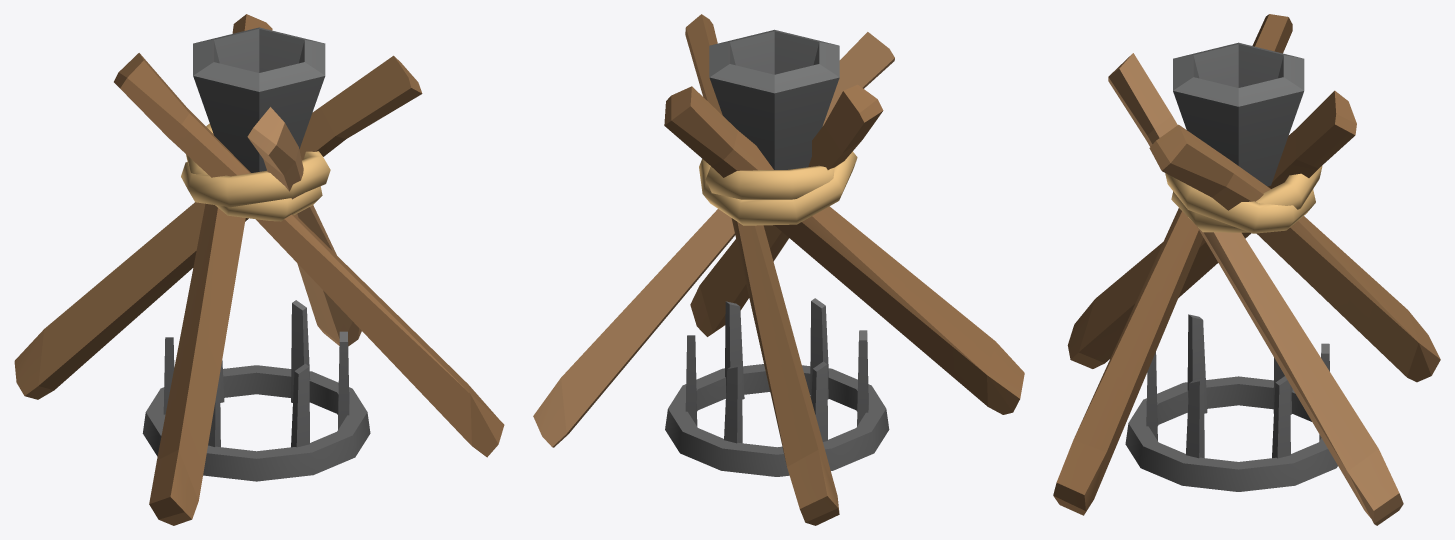
Rendered from Fire_A.fbx.
The picture shows the model from 3 angles, left to right: view 1: azimuth 30°, elevation 25°; view 2: azimuth 150°, elevation 25°; view 3: azimuth 270°, elevation 25°; orthographic projection.
Visible parts, largest first — view 1: Fire_A; view 2: Fire_A; view 3: Fire_A.
Part boxes in pixels (bbox=[...]): Fire_A: bbox=[14, 14, 504, 525]; Fire_A: bbox=[533, 14, 1024, 525]; Fire_A: bbox=[1053, 14, 1440, 525].
Size of the model in its own units: 91.67 by 96.54 by 87.28.
